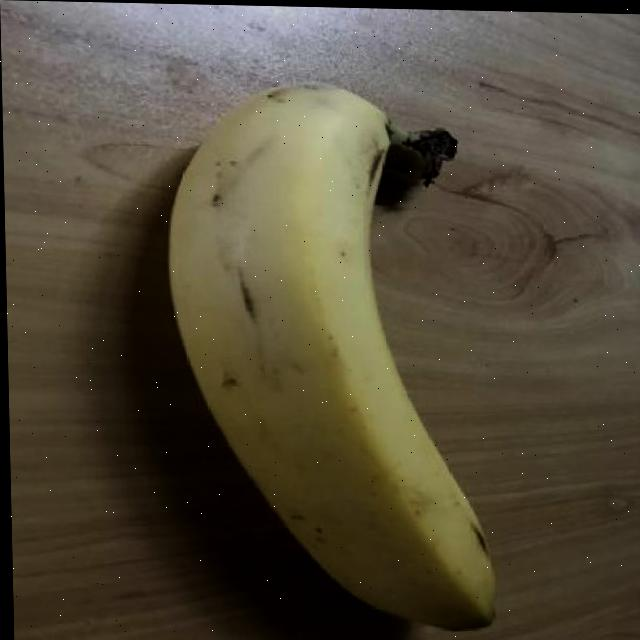banana: (147, 67, 505, 635)
